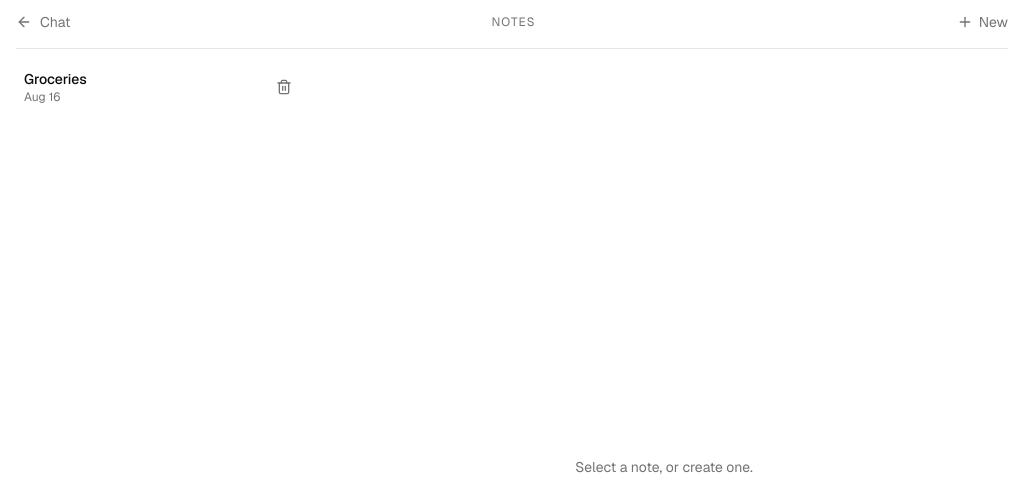
Test: Notes page › deletes after confirmation and drops the note from the list
The width and height of the screenshot is (1025, 492).
Click the button named "Delete Groceries" at (284, 87), box x1=268 y1=65 x2=300 y2=109
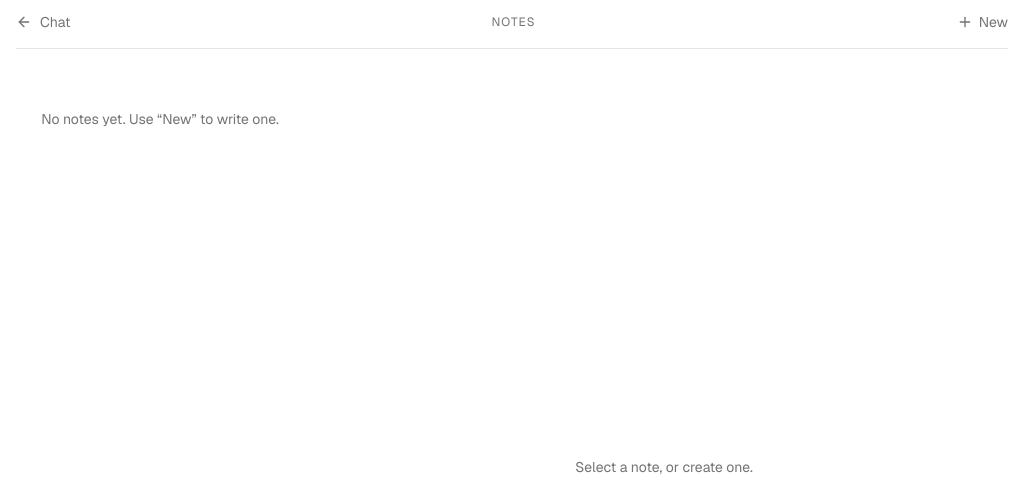
Expected: the button "Groceries" is gone
